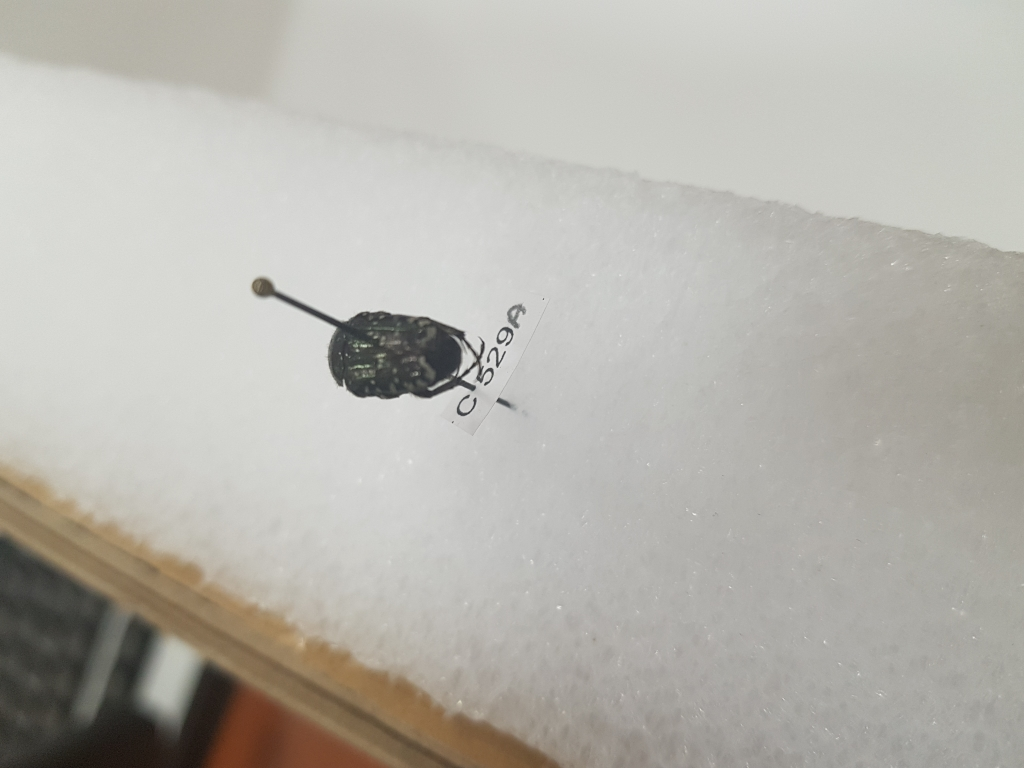Oxythyrea_funesta: (325, 310, 494, 404)
